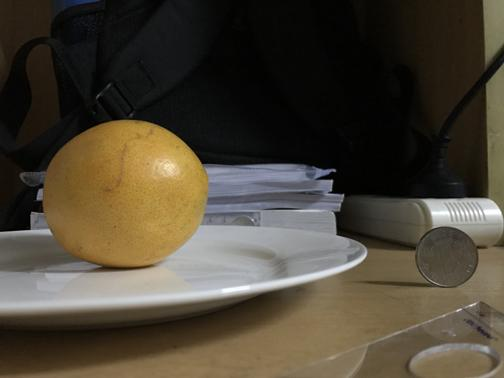coin: (43, 120, 207, 265)
orange: (43, 120, 207, 265)
